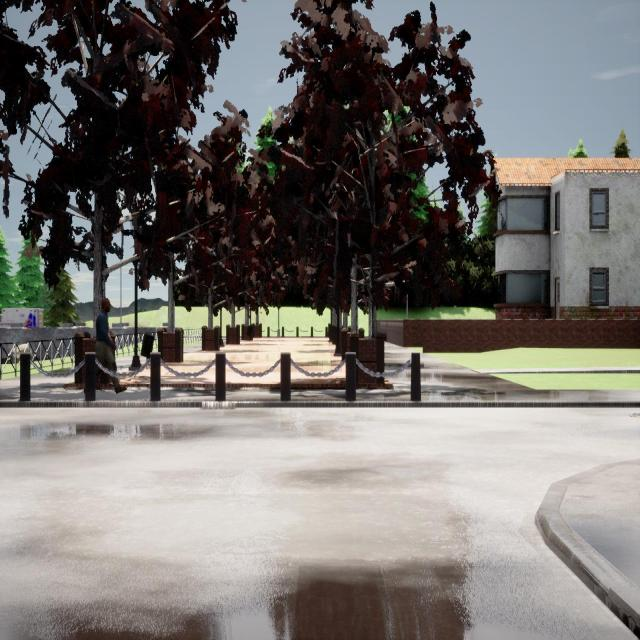Pedestrian: (88, 297, 128, 394)
Vehicle: (1, 307, 43, 330)
